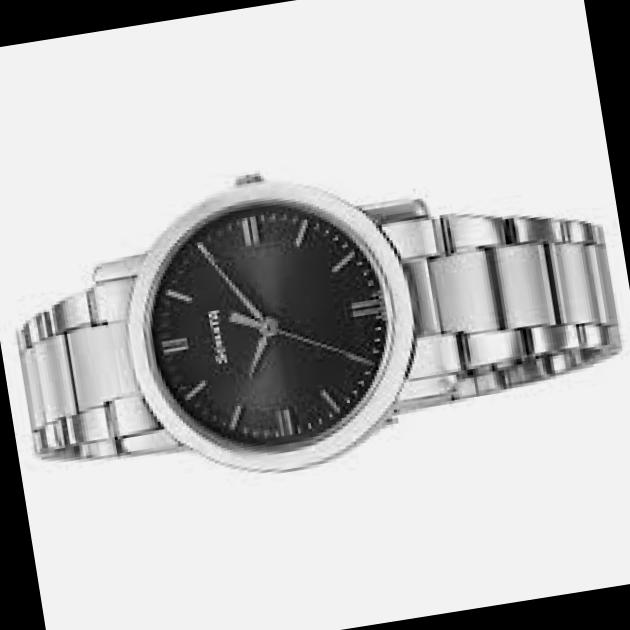wristwatch: (0, 76, 630, 519)
